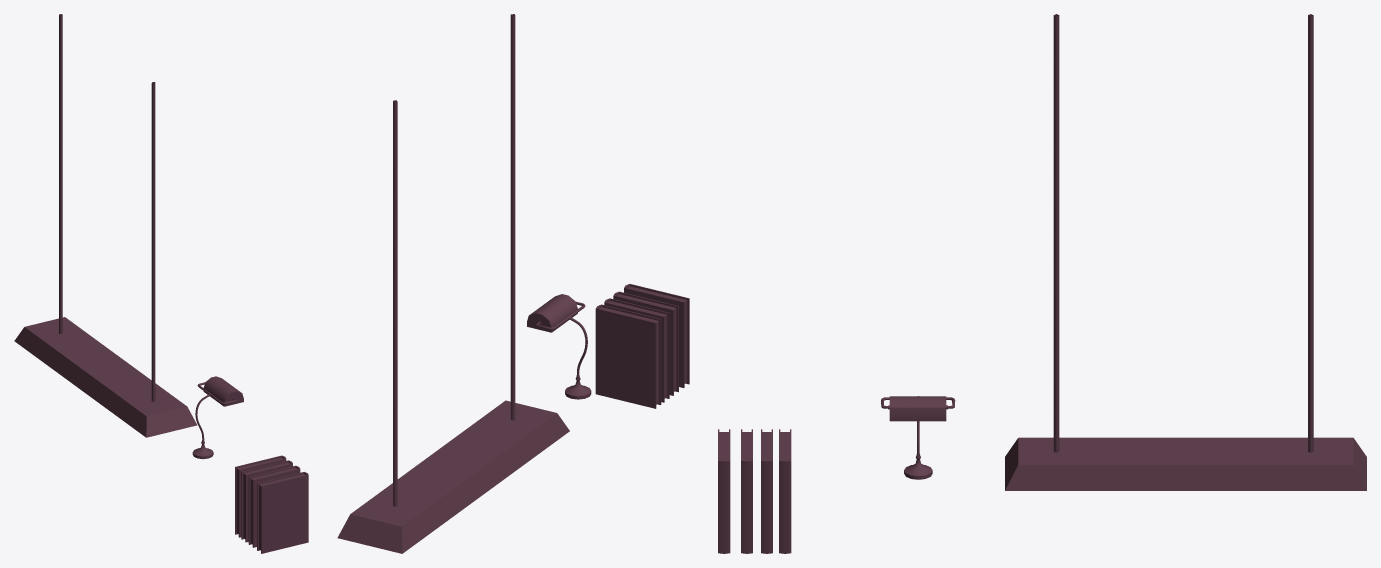
The model's file is Lights.fbx.
The picture shows the model from 3 angles, left to right: view 1: azimuth 30°, elevation 25°; view 2: azimuth 150°, elevation 25°; view 3: azimuth 270°, elevation 25°; orthographic projection. The views are drawn at different scales.
Parts seen in each view (by area): view 1: Fluorescent, books003, Lamp, books002, books001, books; view 2: Fluorescent, books, Lamp, books003, books002, books001; view 3: Fluorescent, Lamp, books, books003, books001, books002.
Boxes of the visible parts, x1,y1,x2,y2 form: Fluorescent: [14, 14, 196, 437]; books003: [257, 472, 308, 553]; Lamp: [192, 376, 243, 459]; books002: [248, 465, 300, 547]; books001: [241, 460, 292, 542]; books: [235, 455, 286, 537]; Fluorescent: [337, 14, 569, 553]; books: [595, 304, 661, 408]; Lamp: [527, 294, 591, 399]; books003: [624, 284, 689, 387]; books002: [613, 291, 678, 395]; books001: [604, 298, 669, 402]; Fluorescent: [1005, 14, 1366, 490]; Lamp: [881, 396, 955, 479]; books: [779, 429, 791, 553]; books003: [718, 429, 730, 553]; books001: [761, 429, 772, 553]; books002: [741, 429, 752, 553].
Bounding box in the file's own units: 26.19 × 160 × 183.
